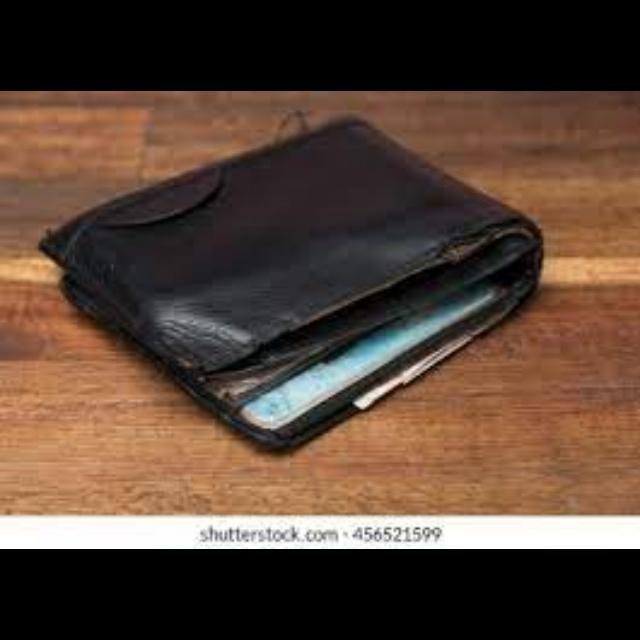wallet: (39, 114, 623, 458)
